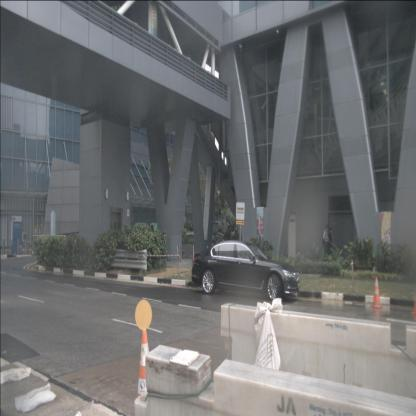barrier: (219, 302, 416, 414), (135, 343, 415, 414)
cone: (136, 298, 154, 406), (371, 277, 382, 309)
